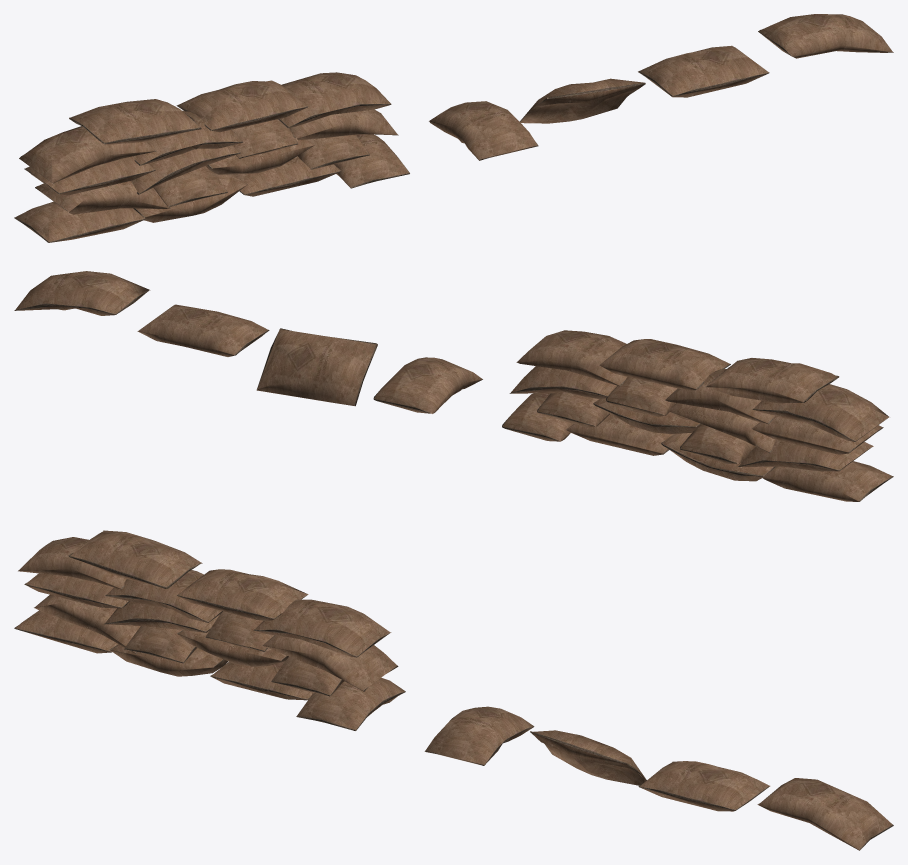
The model's file is sandwall.glb.
3 views of the same model, one above another, from view 1: azimuth 30°, elevation 25°; view 2: azimuth 150°, elevation 25°; view 3: azimuth 330°, elevation 25° (orthographic).
Parts seen in each view (by area): view 1: Cube_16_Mat_0, Cube_11_Mat_0, Cube_17_Mat_0, Cube_44_Mat_0, Cube_14_Mat_0, Cube_12_Mat_0, Cube_8_Mat_0, Cube_15_Mat_0, Cube_45_Mat_0, Cube_23_Mat_0, Cube_13_Mat_0, Cube_9_Mat_0 (+9 smaller); view 2: Cube_15_Mat_0, Cube_16_Mat_0, Cube_11_Mat_0, Cube_44_Mat_0, Cube_17_Mat_0, Cube_12_Mat_0, Cube_14_Mat_0, Cube_8_Mat_0, Cube_45_Mat_0, Cube_23_Mat_0, Cube_9_Mat_0, Cube_1_Mat_0 (+9 smaller); view 3: Cube_17_Mat_0, Cube_8_Mat_0, Cube_44_Mat_0, Cube_16_Mat_0, Cube_11_Mat_0, Cube_14_Mat_0, Cube_6_Mat_0, Cube_15_Mat_0, Cube_13_Mat_0, Cube_12_Mat_0, Cube_10_Mat_0, Cube_23_Mat_0 (+9 smaller).
Part boxes in pixels (x1,y1,x2,y2): Cube_16_Mat_0: (638, 45, 769, 97); Cube_11_Mat_0: (176, 80, 307, 132); Cube_17_Mat_0: (758, 14, 893, 58); Cube_44_Mat_0: (69, 99, 201, 144); Cube_14_Mat_0: (429, 101, 538, 160); Cube_12_Mat_0: (19, 126, 156, 183); Cube_8_Mat_0: (278, 72, 391, 127); Cube_15_Mat_0: (519, 78, 645, 123); Cube_45_Mat_0: (14, 201, 145, 242); Cube_23_Mat_0: (35, 181, 170, 214); Cube_13_Mat_0: (334, 134, 409, 188); Cube_9_Mat_0: (24, 156, 155, 195); Cube_15_Mat_0: (256, 328, 377, 406); Cube_16_Mat_0: (137, 304, 269, 356); Cube_11_Mat_0: (599, 339, 730, 390); Cube_44_Mat_0: (705, 358, 839, 403); Cube_17_Mat_0: (14, 271, 150, 315); Cube_12_Mat_0: (752, 384, 889, 441); Cube_14_Mat_0: (373, 357, 482, 413); Cube_8_Mat_0: (516, 330, 627, 386); Cube_45_Mat_0: (761, 461, 893, 501); Cube_23_Mat_0: (738, 440, 873, 471); Cube_9_Mat_0: (751, 415, 883, 454); Cube_1_Mat_0: (566, 414, 673, 455); Cube_17_Mat_0: (757, 778, 893, 850); Cube_8_Mat_0: (253, 599, 391, 657); Cube_44_Mat_0: (68, 530, 202, 588); Cube_16_Mat_0: (638, 761, 770, 811); Cube_11_Mat_0: (177, 569, 308, 620); Cube_14_Mat_0: (424, 706, 534, 765); Cube_6_Mat_0: (262, 635, 398, 691); Cube_15_Mat_0: (530, 730, 646, 785); Cube_13_Mat_0: (296, 677, 405, 730); Cube_12_Mat_0: (18, 537, 126, 589); Cube_10_Mat_0: (105, 570, 222, 622); Cube_23_Mat_0: (34, 595, 140, 653).
Size of the model in its own units: 8 by 1.23 by 0.8338.
1 material, 1 textured.
